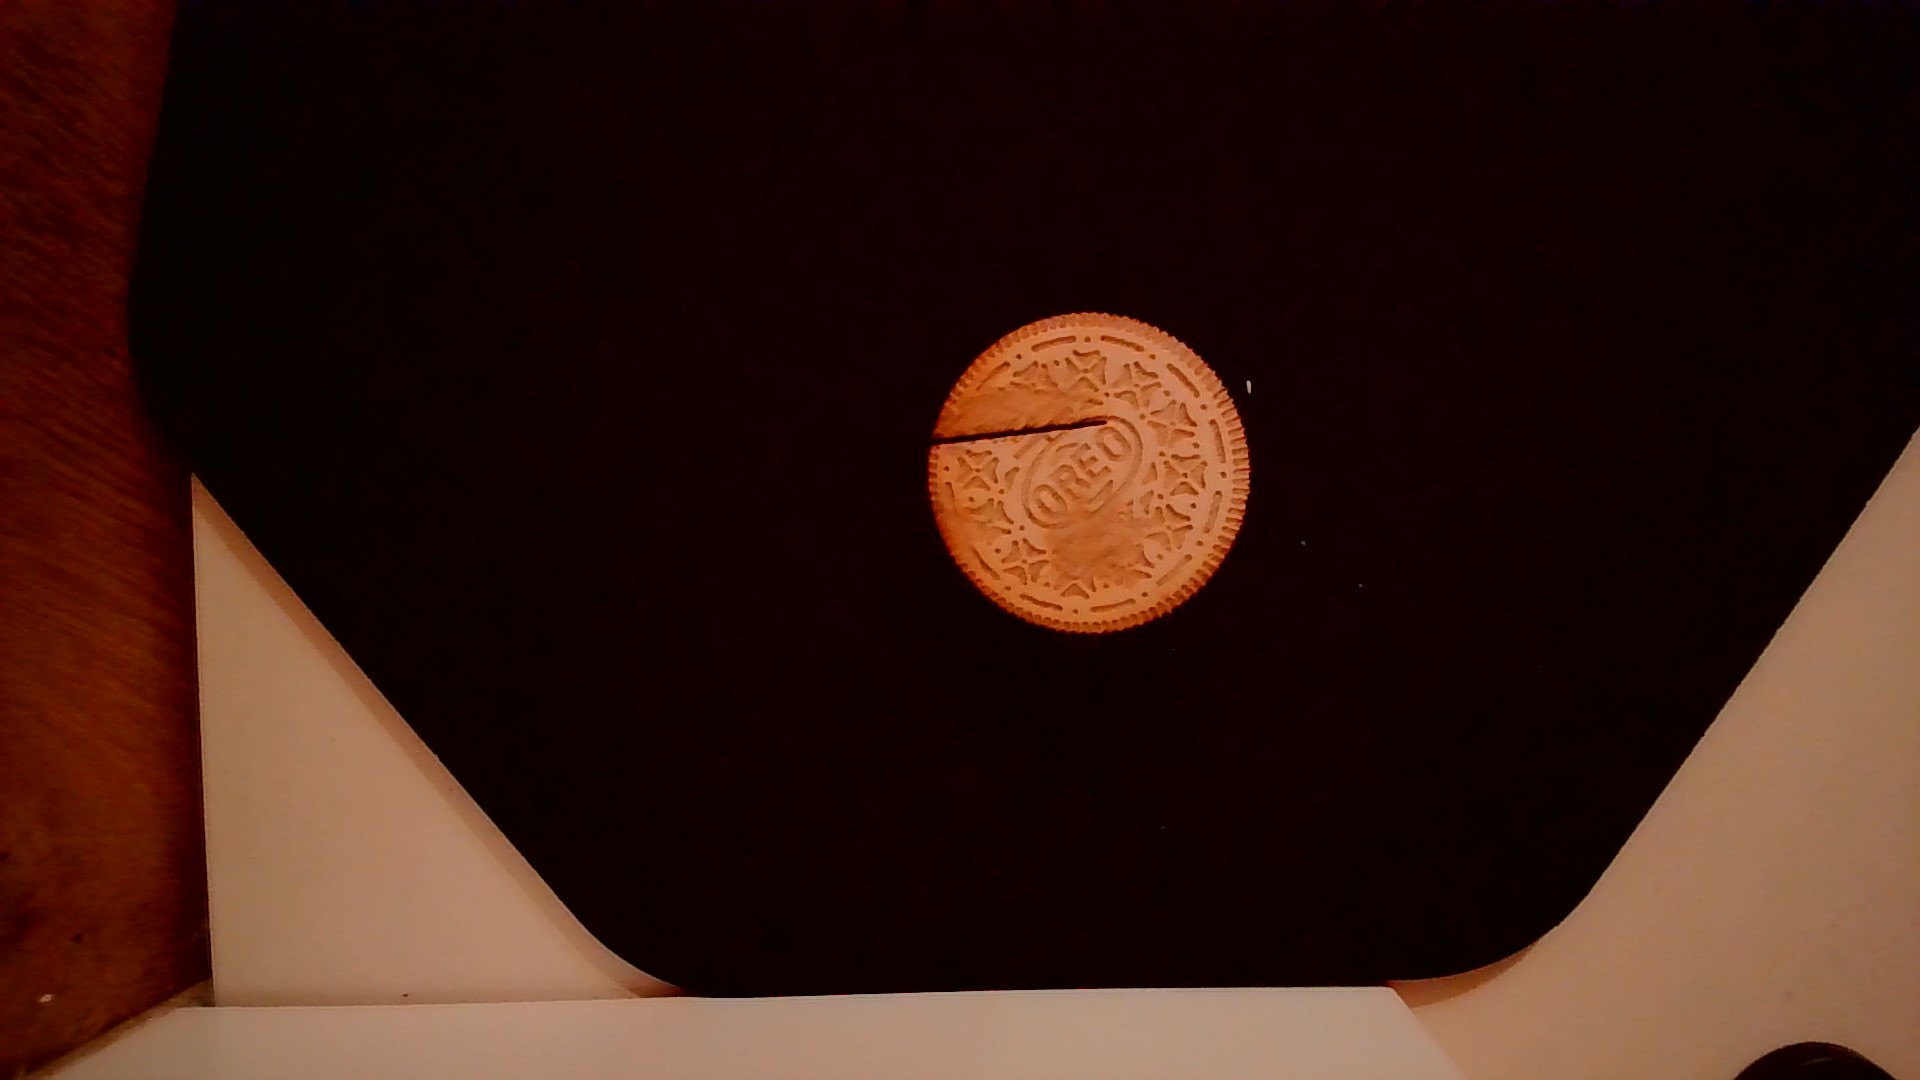Effacé: (1044, 512, 1114, 575), (956, 386, 1095, 417), (934, 501, 996, 558)
Fissure: (928, 400, 1118, 467)
Oréo: (916, 301, 1255, 644)
